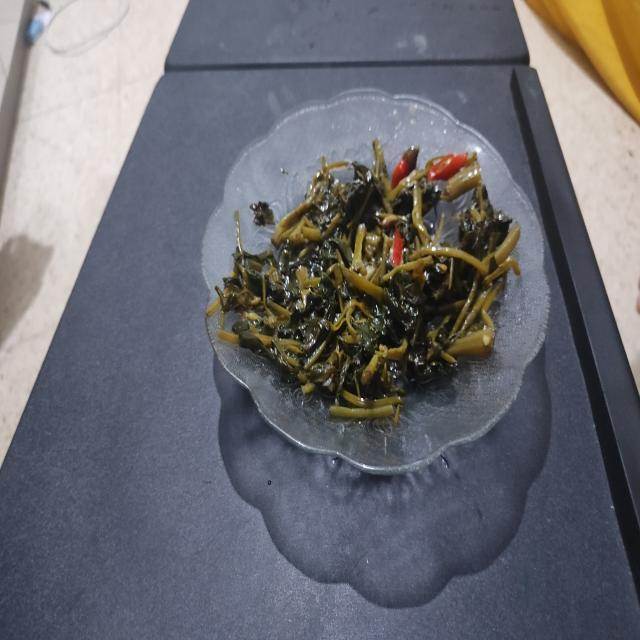tumis_kangkung: (215, 139, 520, 424)
